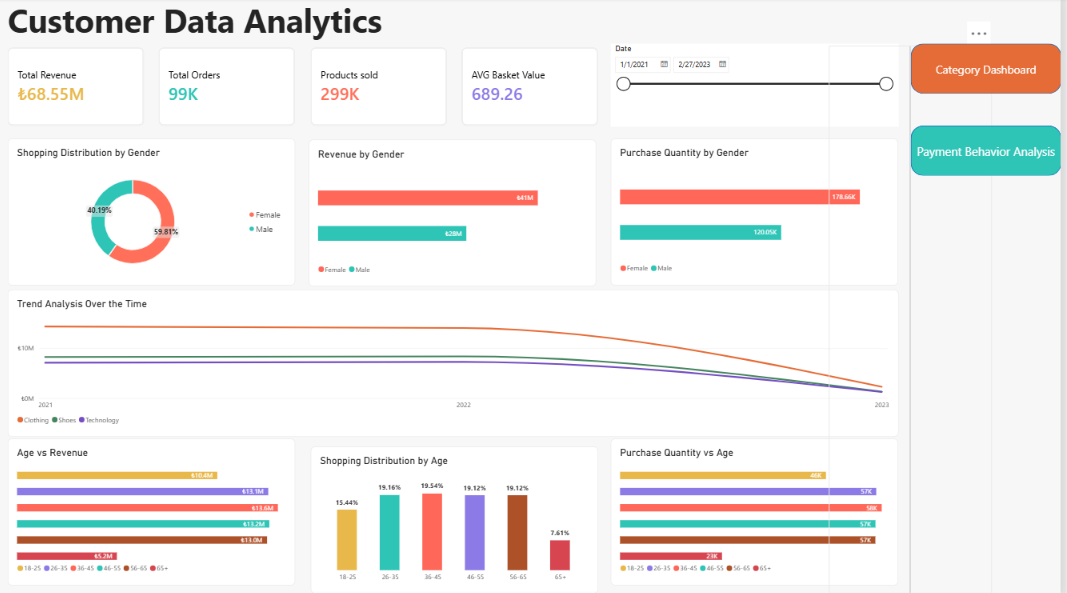

This screenshot's page, from the dashboard's own definition file:
{"tool":"powerbi","page":{"name":"Main Dashboard","canvas":[1920,1080],"ordinal":0},"visuals":[{"type":"textbox","box":[13.6,0,1907.4,90.1],"z":0},{"type":"cardVisual","fields":{"Data":["rawdata.Total Revenue"]},"box":[14.1,90.8,246.1,141.2],"z":1000},{"type":"cardVisual","fields":{"Data":["rawdata.Total Orders"]},"box":[288.1,90.7,246.1,141.2],"z":2000},{"type":"cardVisual","fields":{"Data":["rawdata.AVG Basket Value"]},"box":[836.1,90.8,246.1,141.2],"z":3000},{"type":"cardVisual","fields":{"Data":["rawdata.Product sold"]},"box":[562.1,90.7,246.1,141.2],"z":4000},{"type":"donutChart","title":"Shopping Distribution by Gender","fields":{"Category":["rawdata.gender"],"Y":["rawdata.Total Orders"]},"box":[13.6,254.3,519.8,265.4],"z":5000},{"type":"barChart","title":"Purchase Quantity by Gender","fields":{"Y":["rawdata.Product sold"],"Category":["rawdata.gender"],"Series":["rawdata.gender"]},"box":[1104.9,255.6,519.8,265.4],"z":6000},{"type":"barChart","title":"Revenue by Gender","fields":{"Y":["rawdata.Total Revenue"],"Category":["rawdata.gender"],"Series":["rawdata.gender"]},"box":[559.3,256.8,519.8,265.4],"z":7000},{"type":"barChart","title":"Age vs Revenue","fields":{"Y":["rawdata.Total Revenue"],"Category":["rawdata.Custom"],"Series":["rawdata.Custom"]},"box":[14.1,798.8,519.8,265.4],"z":8000},{"type":"barChart","title":"Purchase Quantity vs Age","fields":{"Y":["Sum(rawdata.quantity)"],"Category":["rawdata.Custom"],"Series":["rawdata.Custom"]},"box":[1105.4,798.8,519.8,265.4],"z":9000},{"type":"shape","box":[14.1,528.5,1611.8,266.3],"z":10000},{"type":"lineChart","title":"Trend Analysis Over the Time","fields":{"Category":["Date Table.Date.Variation.Date Hierarchy.Year","Date Table.Date.Variation.Date Hierarchy.Quarter","Date Table.Date.Variation.Date Hierarchy.Month"],"Series":["rawdata.Category"],"Y":["rawdata.Total Revenue"]},"box":[14.1,528.5,1611.8,266.3],"z":11000},{"type":"slicer","fields":{"Values":["Date Table.Date"]},"box":[1105.4,82.7,520.4,149.3],"z":12000},{"type":"shape","box":[1500.8,86.7,294.5,992.5],"z":13000},{"type":"shape","box":[1648.1,82.7,272.3,90.8],"z":14000},{"type":"shape","box":[1648.1,232,272.3,90.8],"z":15000},{"type":"clusteredColumnChart","title":"Shopping Distribution by Age","fields":{"Category":["rawdata.Age Category"],"Y":["rawdata.Total Orders"]},"box":[562.8,812.5,519.8,265.4],"z":16000}]}

Visuals, with their boxes in screenshot pixels (x1, y1, x2, y2), scaled from the page's 1920x1080 canvas onto the 1067x593 screenshot:
textbox: Rect(8, 0, 1066, 49)
cardVisual - rawdata.Total Revenue: Rect(8, 50, 145, 127)
cardVisual - rawdata.Total Orders: Rect(160, 50, 297, 127)
cardVisual - rawdata.AVG Basket Value: Rect(465, 50, 601, 127)
cardVisual - rawdata.Product sold: Rect(312, 50, 449, 127)
"Shopping Distribution by Gender" donutChart: Rect(8, 140, 296, 285)
"Purchase Quantity by Gender" barChart: Rect(614, 140, 903, 286)
"Revenue by Gender" barChart: Rect(311, 141, 600, 287)
"Age vs Revenue" barChart: Rect(8, 439, 297, 584)
"Purchase Quantity vs Age" barChart: Rect(614, 439, 903, 584)
shape: Rect(8, 290, 904, 436)
"Trend Analysis Over the Time" lineChart: Rect(8, 290, 904, 436)
slicer - Date Table.Date: Rect(614, 45, 904, 127)
shape: Rect(834, 48, 998, 592)
shape: Rect(916, 45, 1066, 95)
shape: Rect(916, 127, 1066, 177)
"Shopping Distribution by Age" clusteredColumnChart: Rect(313, 446, 602, 592)
